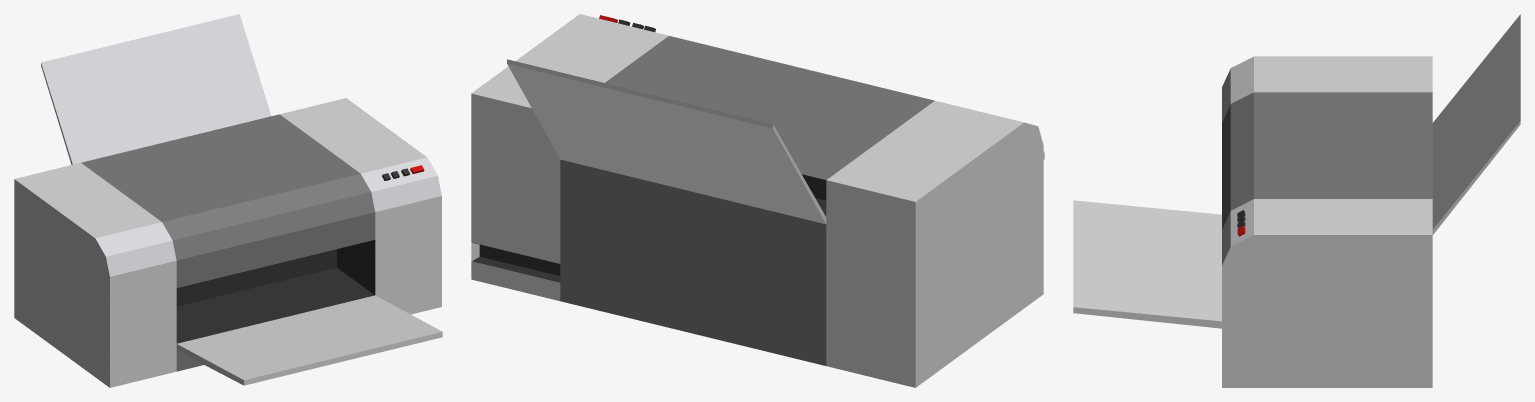
The model's file is printer-v2-transformed.glb.
The picture shows the model from 3 angles, left to right: view 1: azimuth 30°, elevation 25°; view 2: azimuth 150°, elevation 25°; view 3: azimuth 270°, elevation 25°; orthographic projection. The views are drawn at different scales.
Visible parts, largest first — view 1: Cube_0; view 2: Cube_0; view 3: Cube_0.
Boxes of the visible parts, x1,y1,x2,y2 form: Cube_0: (14, 14, 442, 387); Cube_0: (471, 14, 1044, 387); Cube_0: (1073, 14, 1520, 387).
Size of the model in its own units: 0.3003 by 0.1815 by 0.318.
1 material, 1 textured.
